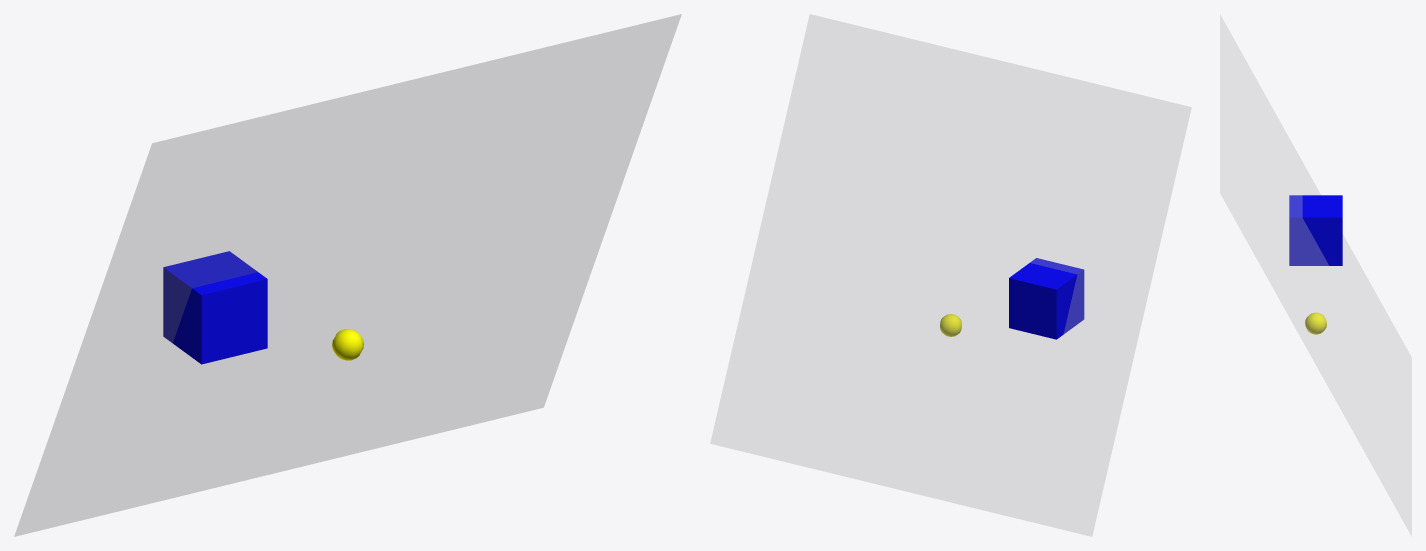
The picture shows the model from 3 angles, left to right: view 1: azimuth 30°, elevation 25°; view 2: azimuth 150°, elevation 25°; view 3: azimuth 270°, elevation 25°; orthographic projection. The views are drawn at different scales.
Visible parts, largest first — view 1: object 3, object 2, Sphere; view 2: object 3, object 2; view 3: object 3, object 2, Sphere.
Part boxes in pixels (x1=…): object 3: x1=14, y1=14, x2=681, y2=536; object 2: x1=163, y1=251, x2=267, y2=364; Sphere: x1=332, y1=329, x2=363, y2=360; object 3: x1=710, y1=14, x2=1191, y2=536; object 2: x1=1009, y1=258, x2=1084, y2=339; object 3: x1=1220, y1=15, x2=1411, y2=535; object 2: x1=1289, y1=195, x2=1342, y2=265; Sphere: x1=1305, y1=312, x2=1326, y2=334.
Size of the model in its own units: 8 by 7.14 by 3.61.
